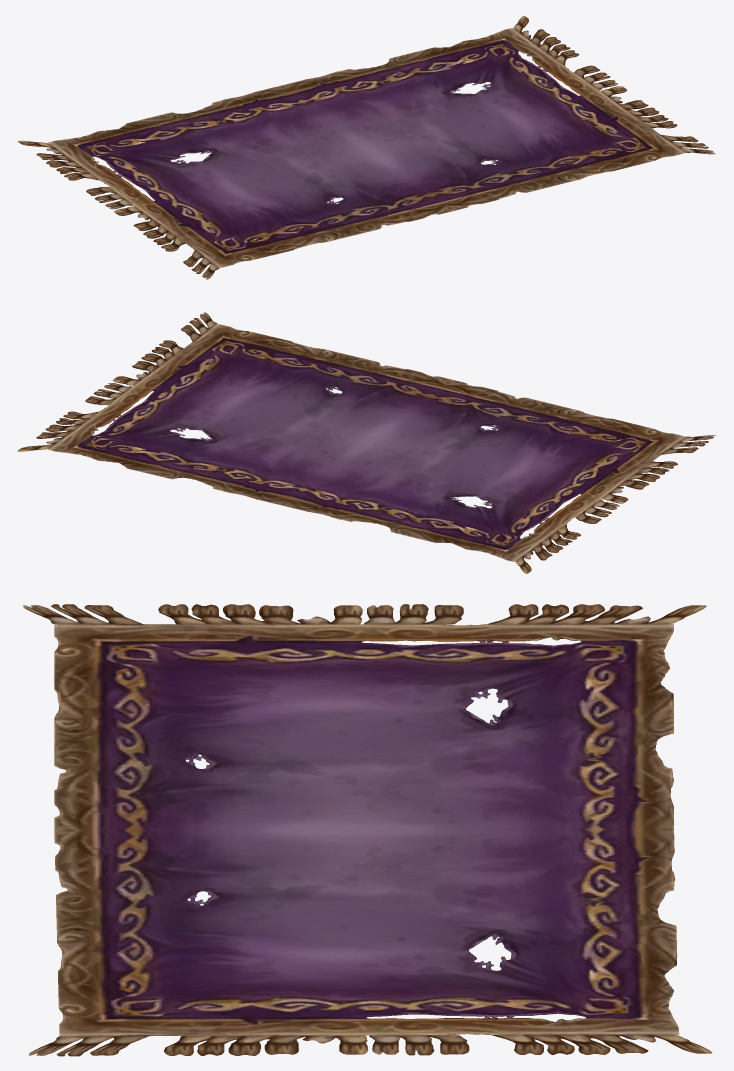
File: scholme_purplerug.obj
3 views of the same model, one above another, from view 1: azimuth 30°, elevation 25°; view 2: azimuth 150°, elevation 25°; view 3: azimuth 270°, elevation 25° (orthographic). The views are drawn at different scales.
Parts seen in each view (by area): view 1: SCHOLME_PURPLERUG0; view 2: SCHOLME_PURPLERUG0; view 3: SCHOLME_PURPLERUG0.
Part boxes in pixels (x1,y1,x2,y2): SCHOLME_PURPLERUG0: (17, 16, 715, 279); SCHOLME_PURPLERUG0: (17, 312, 715, 573); SCHOLME_PURPLERUG0: (23, 604, 712, 1056).
Bounding box in the file's own units: 6.33 × 0 × 4.17.
1 material, 1 textured.
